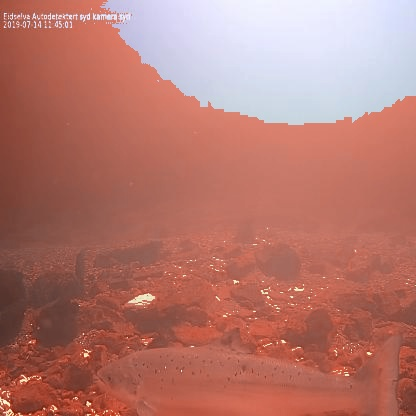salmon: (94, 324, 406, 416)
